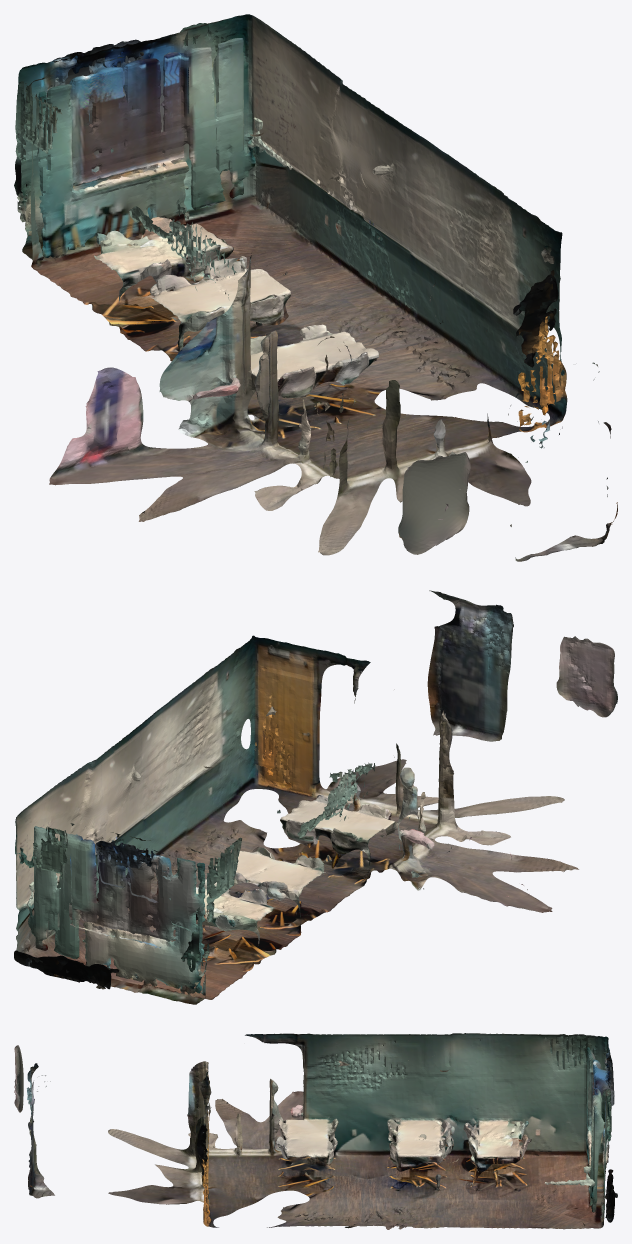
The model's file is POLYCAM_ROOM_GLB_3.glb.
3 views of the same model, one above another, from view 1: azimuth 30°, elevation 25°; view 2: azimuth 150°, elevation 25°; view 3: azimuth 270°, elevation 25° (orthographic). The views are drawn at different scales.
Size of the model in its own units: 6.03 by 2.7 by 10.9.
1 material, 1 textured.
